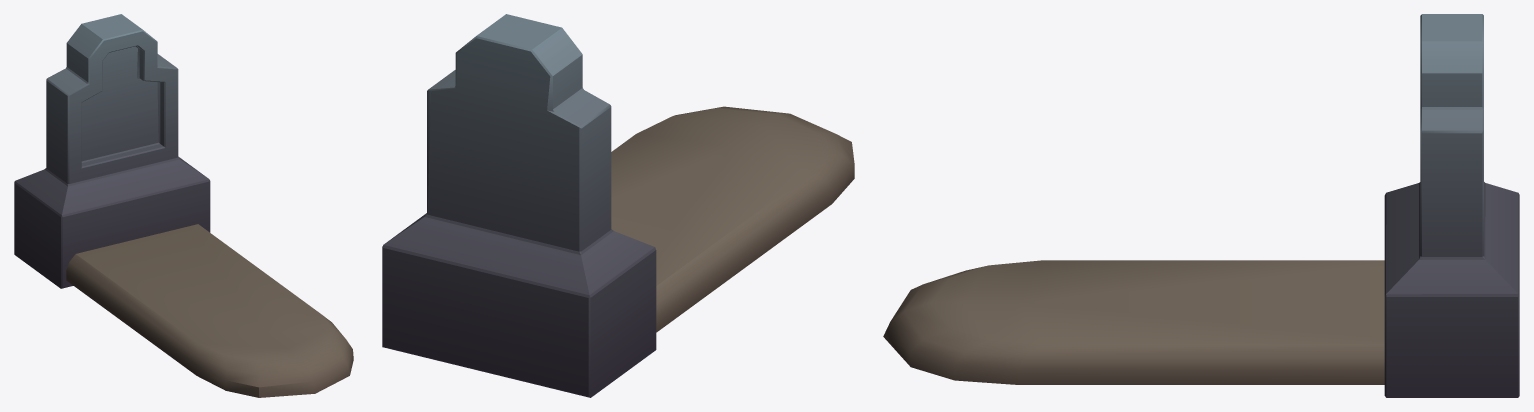
Rendered from GStone8.fbx.
3 renders of one model, left to right at view 1: azimuth 30°, elevation 25°; view 2: azimuth 150°, elevation 25°; view 3: azimuth 270°, elevation 25°, orthographic. The views are drawn at different scales.
Visible parts, largest first — view 1: GStone8; view 2: GStone8; view 3: GStone8.
Part boxes in pixels (x1,y1,x2,y2): GStone8: (14,14,353,397); GStone8: (382,14,854,397); GStone8: (883,14,1519,397).
Bounding box in the file's own units: 200 × 291 × 525.
1 material, 1 textured.
